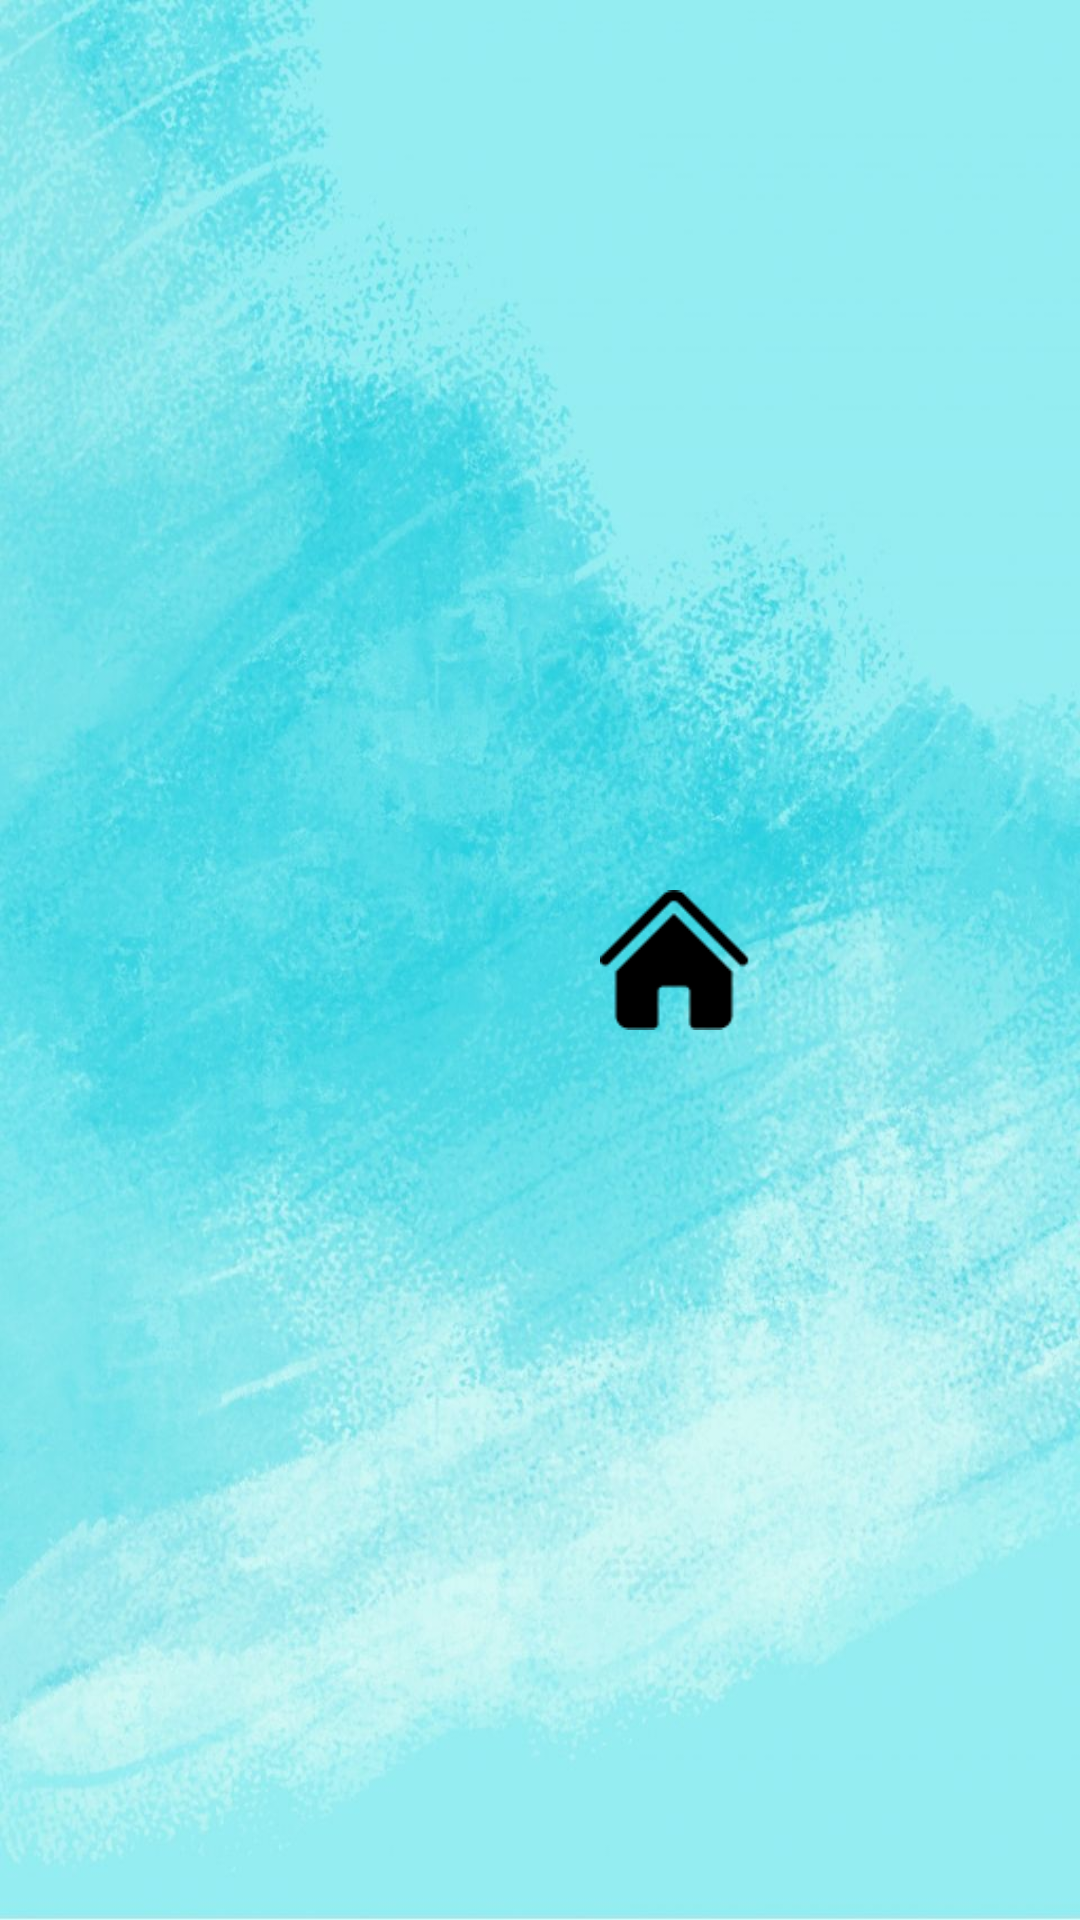

Named icons in this screenshot (1080px×1920px) and their centers, (x=x, y=y):
home: (x=675, y=960)
